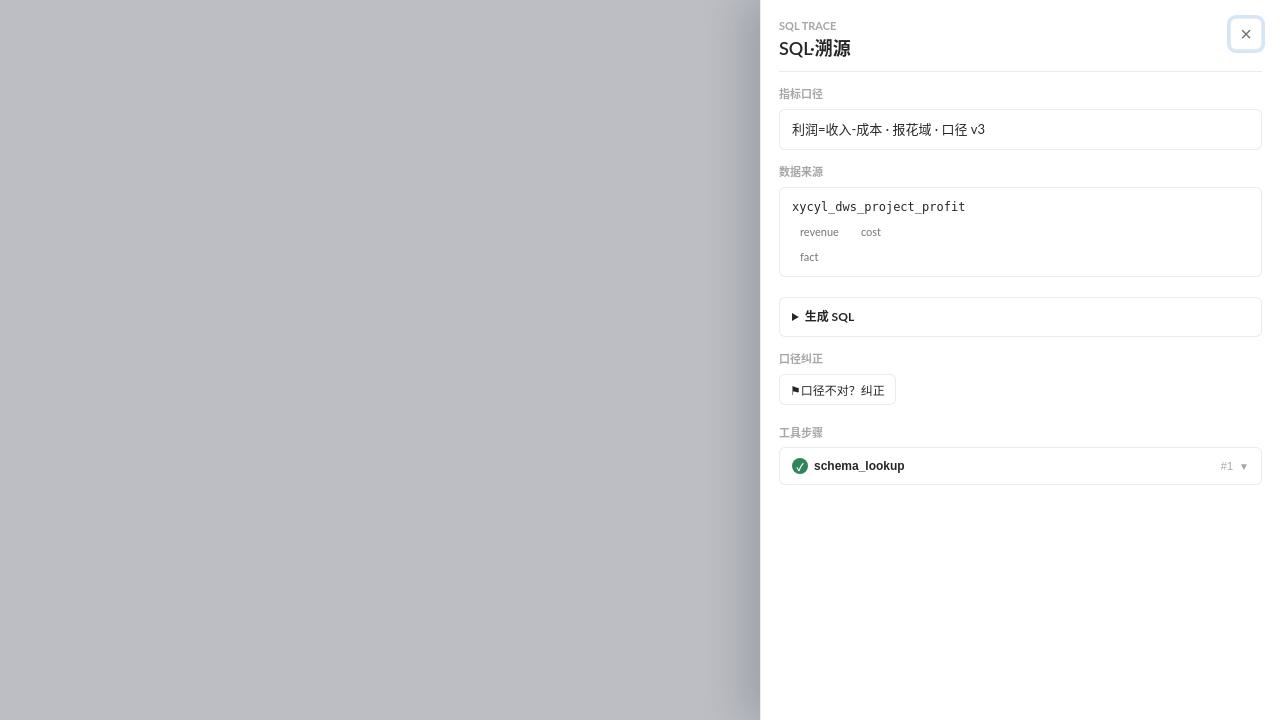
TracePanel › renders trace caliber, sources, SQL, and tool steps in a drawer
Expected: the dialog "SQL·溯源" is shown, top-left (760, 0), bottom-right (1279, 719)
Expected: the text "利润=收入-成本 · 报花域 · 口径 v3" is shown, top-left (779, 108), bottom-right (1262, 150)
Step 1. Click the heading "生成 SQL" → [829, 317], box top-left (805, 309), bottom-right (854, 324)
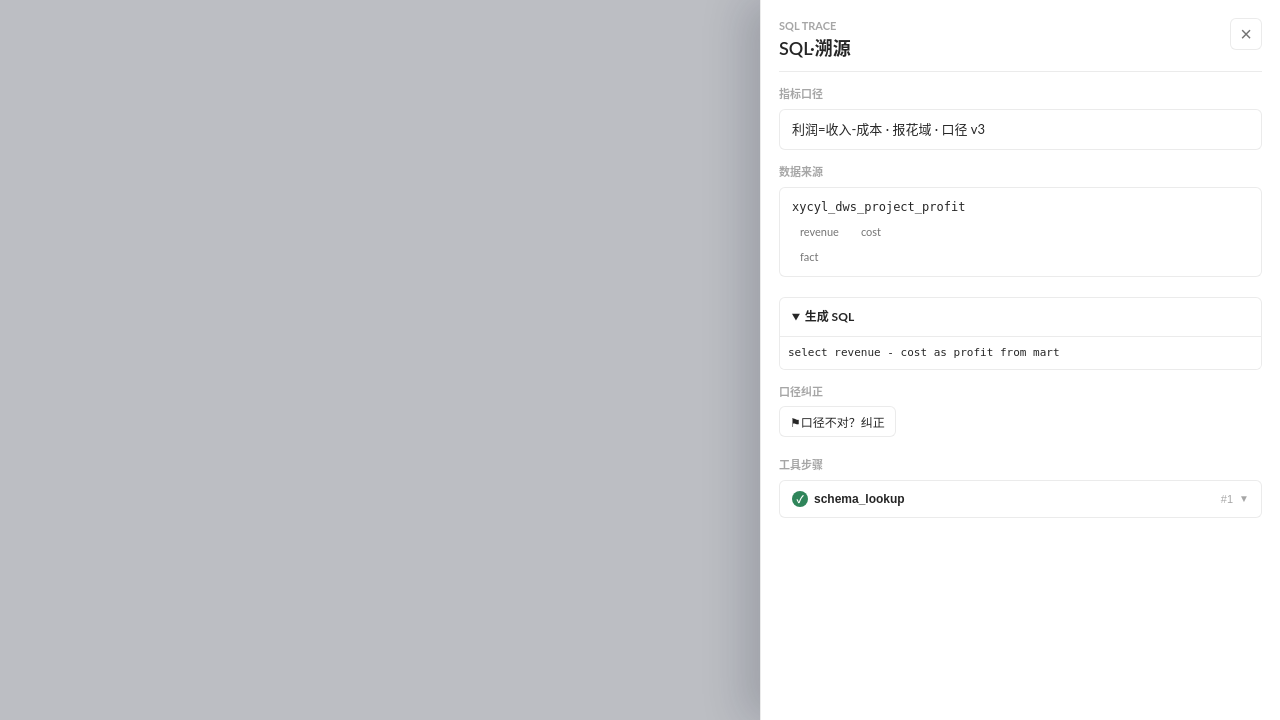
Expected: the text "select revenue - cost as profit from mart" is shown, top-left (780, 336), bottom-right (1261, 369)
Step 2. Click the button "✓ schema_lookup #1 ▼" → [859, 499], box top-left (784, 485), bottom-right (1257, 513)
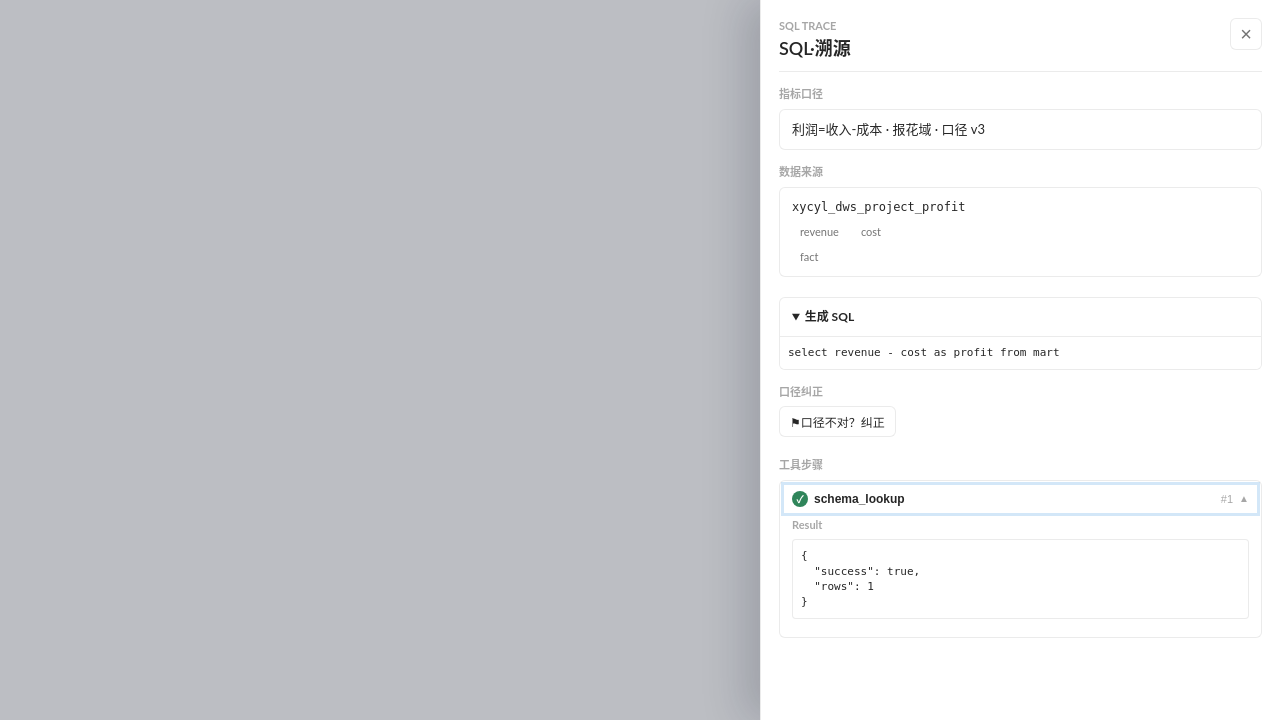
Expected: the text "xycyl_dws_project_profit" is shown, top-left (792, 200), bottom-right (965, 214)
Step 3. Click the button "⚑口径不对？纠正" → [837, 422], box top-left (779, 406), bottom-right (896, 437)
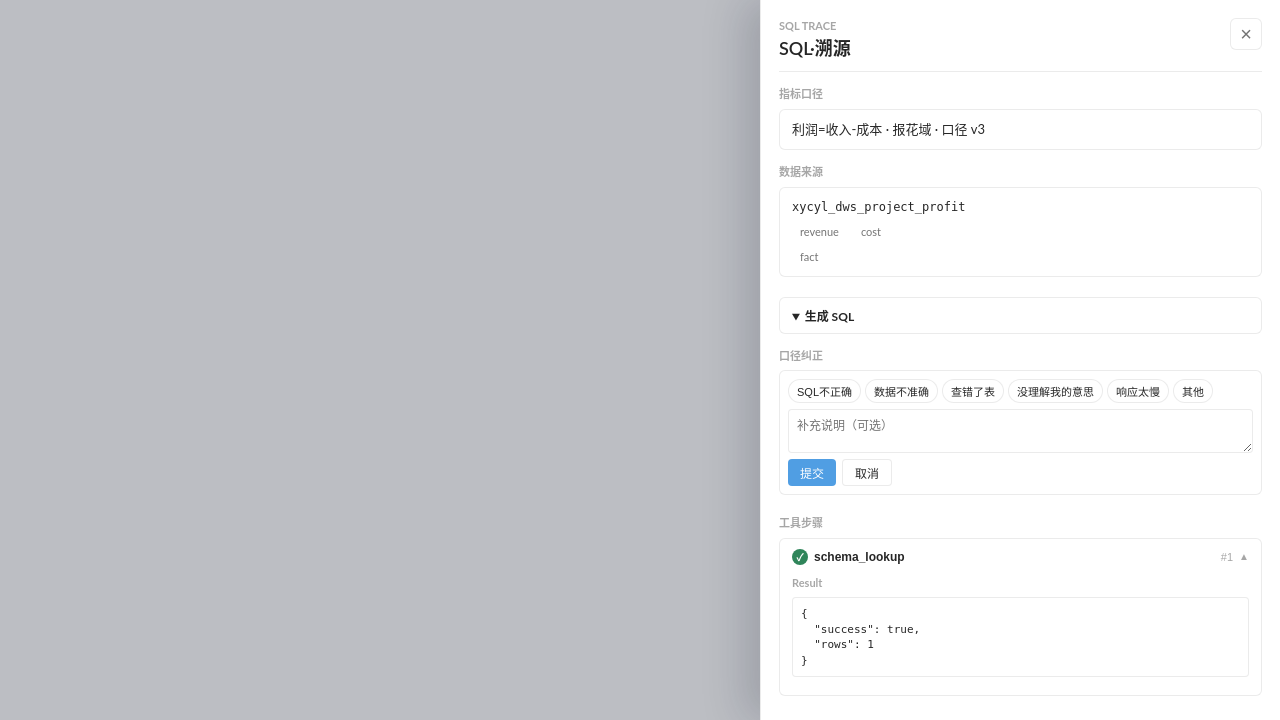
Expected: the button "SQL不正确" is shown, top-left (788, 379), bottom-right (861, 403)
